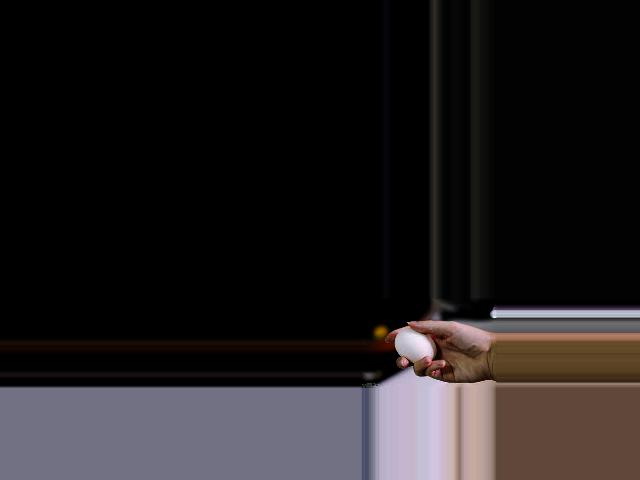egg: (393, 328, 435, 363)
